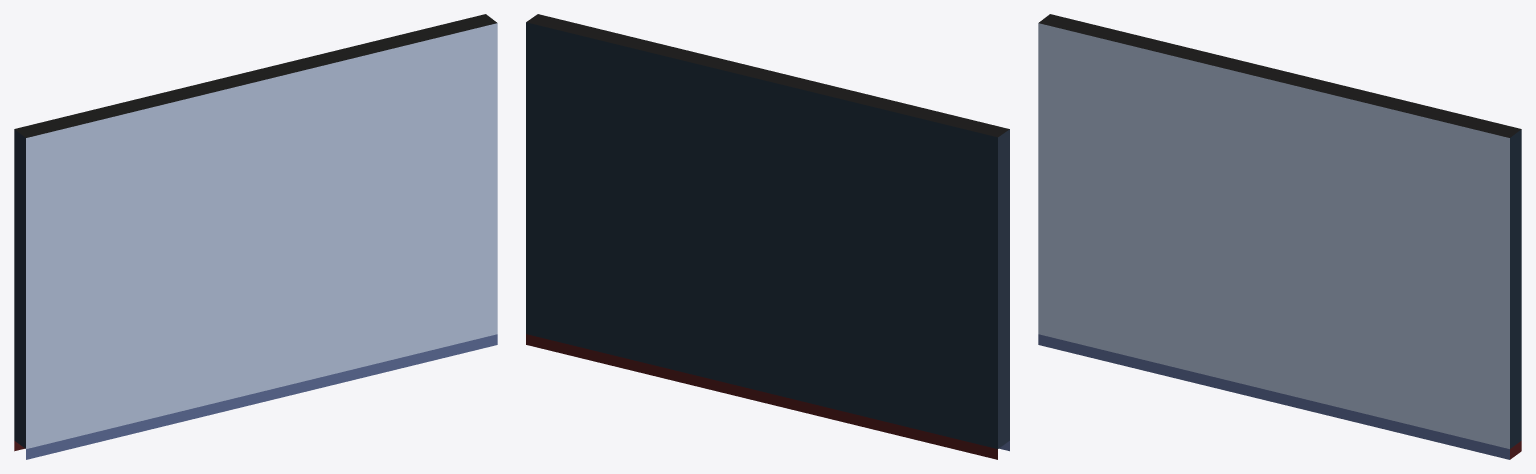
File: office_wall_right.fbx
3 views of the same model, side by side, from view 1: azimuth 30°, elevation 25°; view 2: azimuth 150°, elevation 25°; view 3: azimuth 330°, elevation 25° (orthographic).
Parts seen in each view (by area): view 1: stairs_wall.002; view 2: stairs_wall.002; view 3: stairs_wall.002.
Part boxes in pixels (box(x1,y1,x2,y2)): stairs_wall.002: box(14, 14, 497, 459); stairs_wall.002: box(526, 14, 1009, 459); stairs_wall.002: box(1038, 14, 1521, 459).
Size of the model in its own units: 4.6 by 0.2 by 3.
